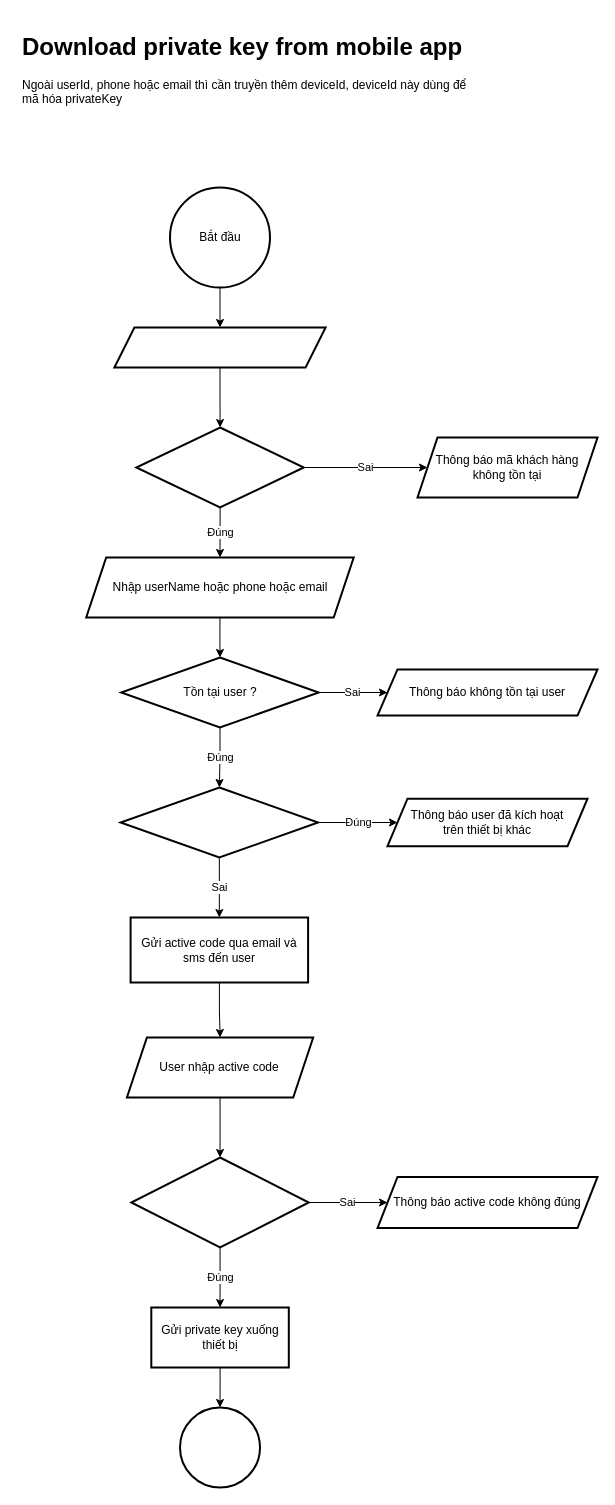
The diagram is 615 pixels wide and 1505 high, and some of its shapes have lost their labels. The centre of each missing label's shape, as x and y in pixels:
Active code đúng ?: [219,1202]
Kết thúc: [219,1447]
Mã khách hàng tồn tại ?: [219,467]
Nhập mã khách hàng: [219,347]
User đã kích hoạt trên thiết bị khác ?: [219,822]
